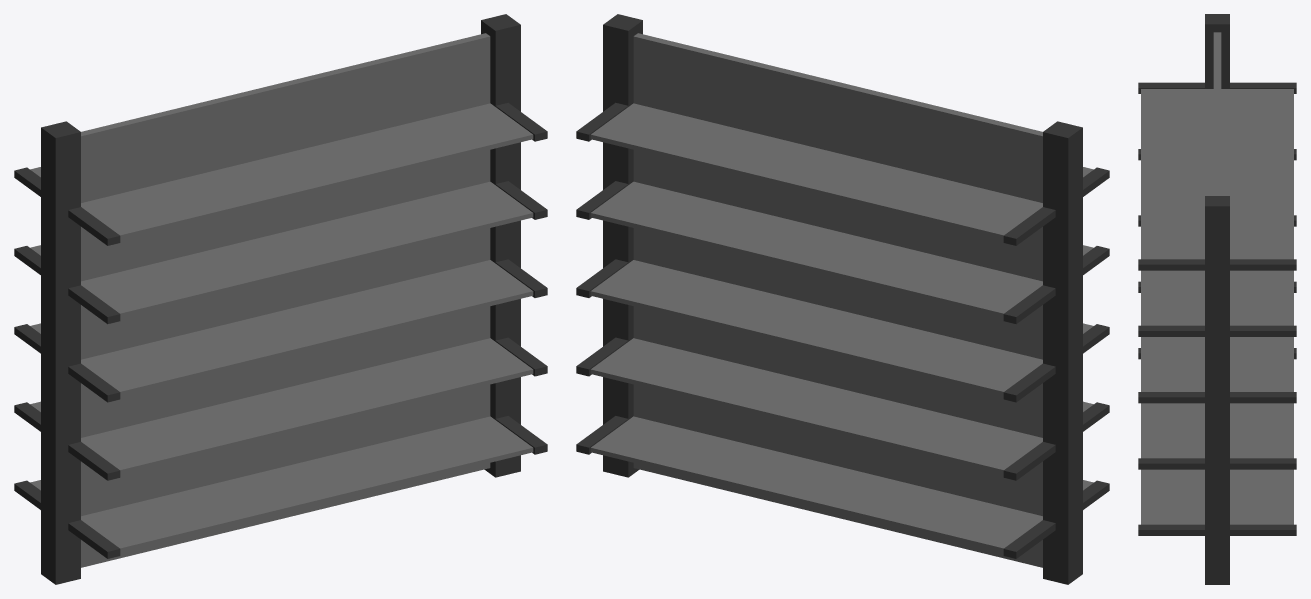
Rendered from SM_Props_Rack_04.fbx.
The picture shows the model from 3 angles, left to right: view 1: azimuth 30°, elevation 25°; view 2: azimuth 150°, elevation 25°; view 3: azimuth 270°, elevation 25°; orthographic projection. The views are drawn at different scales.
Visible parts, largest first — view 1: SM_Props_Rack_04; view 2: SM_Props_Rack_04; view 3: SM_Props_Rack_04.
Part boxes in pixels (x1,y1,x2,y2): SM_Props_Rack_04: [14, 14, 547, 584]; SM_Props_Rack_04: [576, 14, 1109, 584]; SM_Props_Rack_04: [1138, 14, 1296, 584].
Bounding box in the file's own units: 2.2 × 2.02 × 0.7647.
